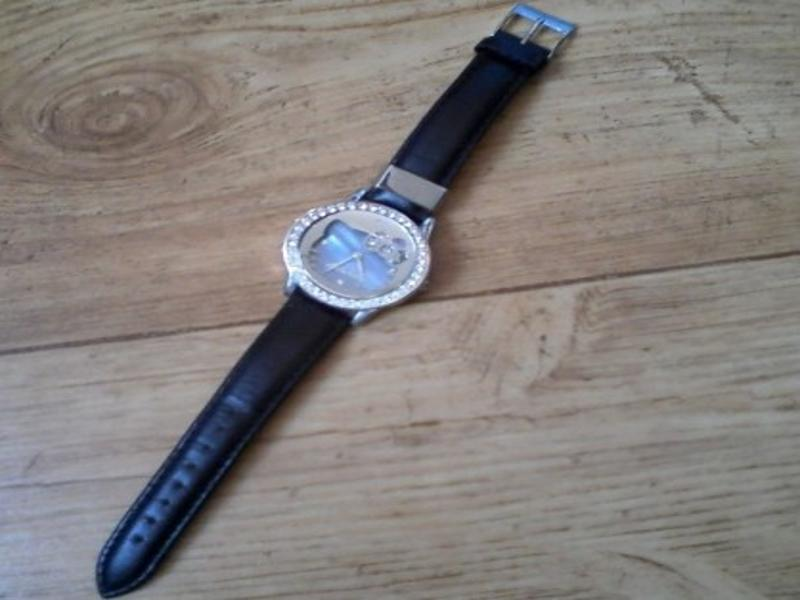watch: (92, 5, 574, 599)
